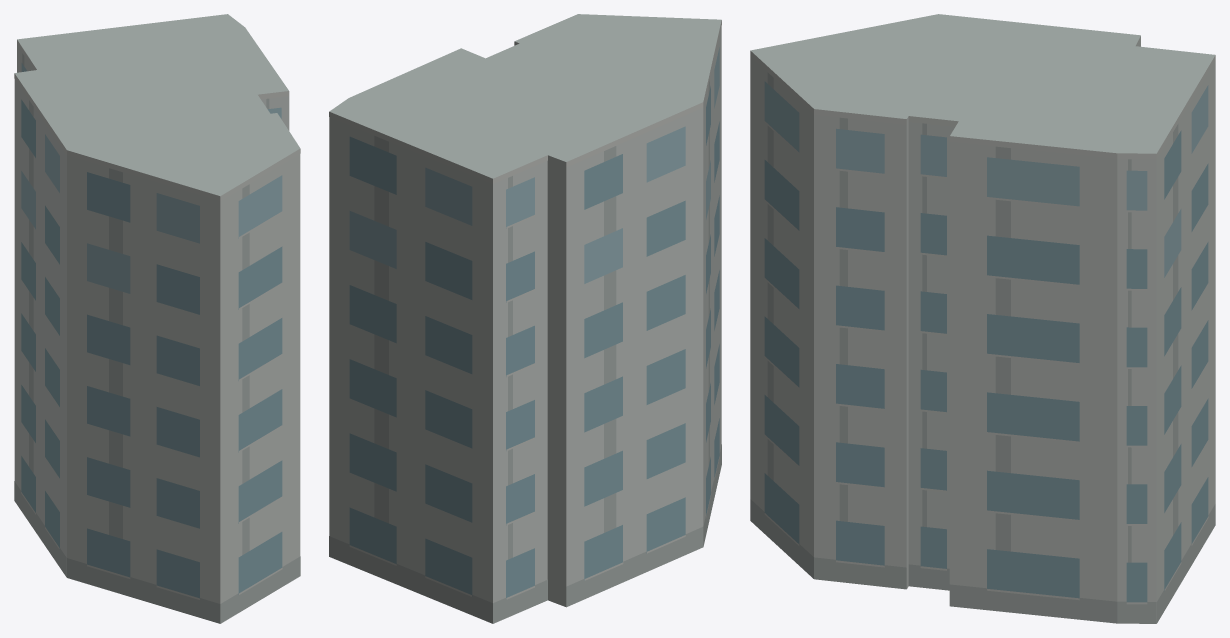
Rendered from survey-upis-32951072.glb.
The picture shows the model from 3 angles, left to right: view 1: azimuth 30°, elevation 25°; view 2: azimuth 150°, elevation 25°; view 3: azimuth 270°, elevation 25°; orthographic projection. The views are drawn at different scales.
Parts seen in each view (by area): view 1: survey-upis-32951072.tmp; view 2: survey-upis-32951072.tmp; view 3: survey-upis-32951072.tmp.
Part boxes in pixels (x1,y1,x2,y2): survey-upis-32951072.tmp: [14, 14, 300, 623]; survey-upis-32951072.tmp: [329, 14, 721, 623]; survey-upis-32951072.tmp: [750, 14, 1215, 623].
Bounding box in the file's own units: 12.49 × 19.6 × 17.59.
